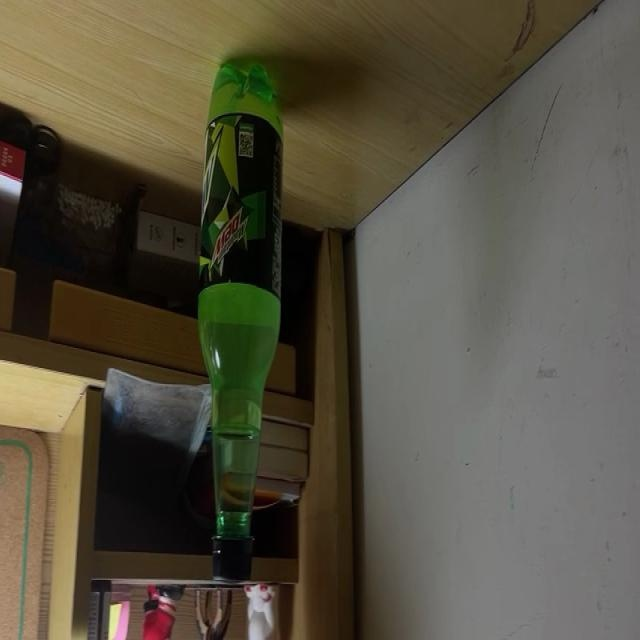Mountain-Dew: (197, 58, 280, 585)
